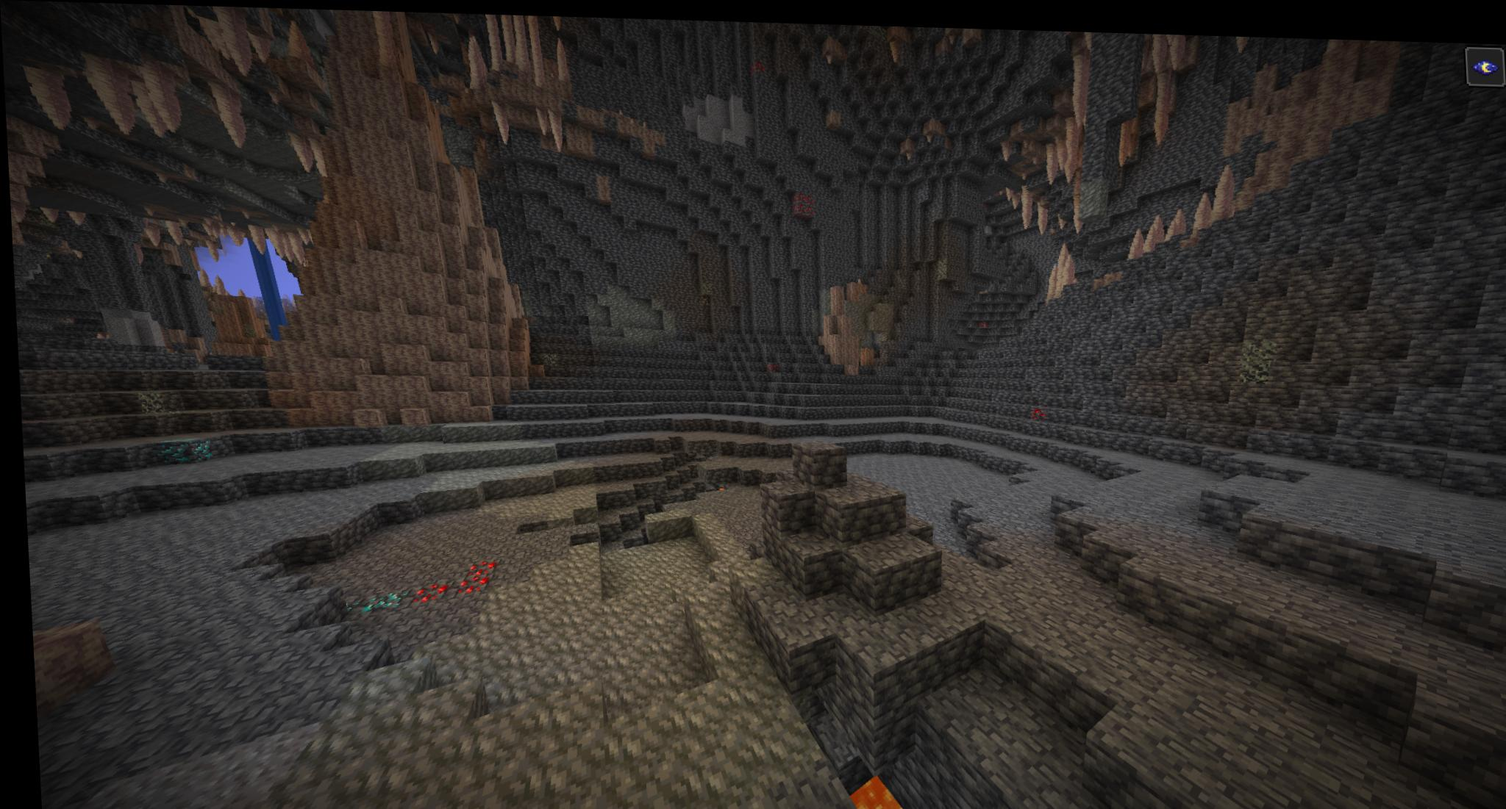diamond ore: (330, 582, 402, 615), (152, 427, 203, 465)
redstone ore: (408, 555, 488, 602), (782, 180, 822, 221), (744, 47, 774, 75)
